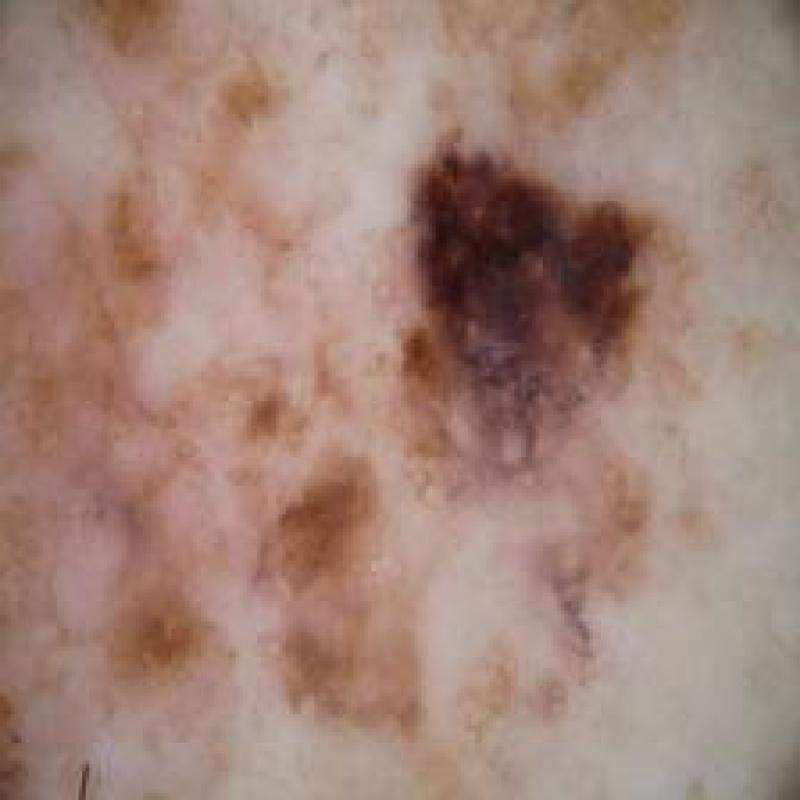malignant: (8, 4, 722, 784)
